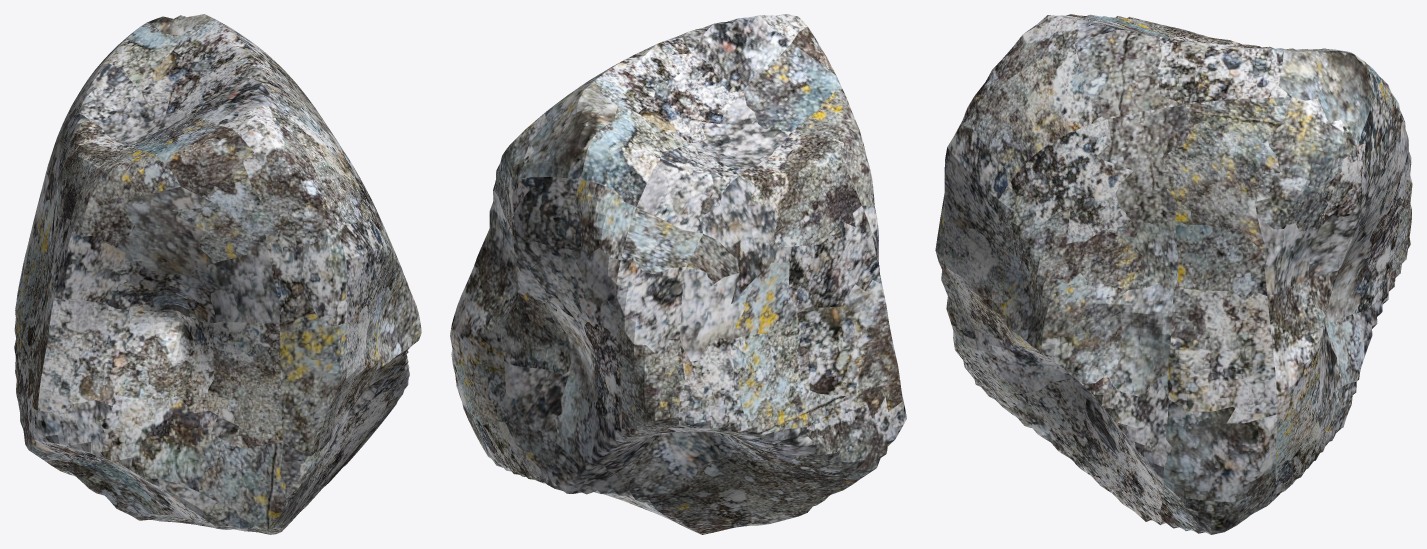
The model's file is Asteroid3New.fbx.
3 renders of one model, left to right at view 1: azimuth 30°, elevation 25°; view 2: azimuth 150°, elevation 25°; view 3: azimuth 270°, elevation 25°, orthographic. The views are drawn at different scales.
Visible parts, largest first — view 1: Asteroid3; view 2: Asteroid3; view 3: Asteroid3.
Part boxes in pixels (x1,y1,x2,y2): Asteroid3: (14,14,421,534); Asteroid3: (450,14,906,534); Asteroid3: (935,14,1412,534).
Bounding box in the file's own units: 131 × 153 × 139.
